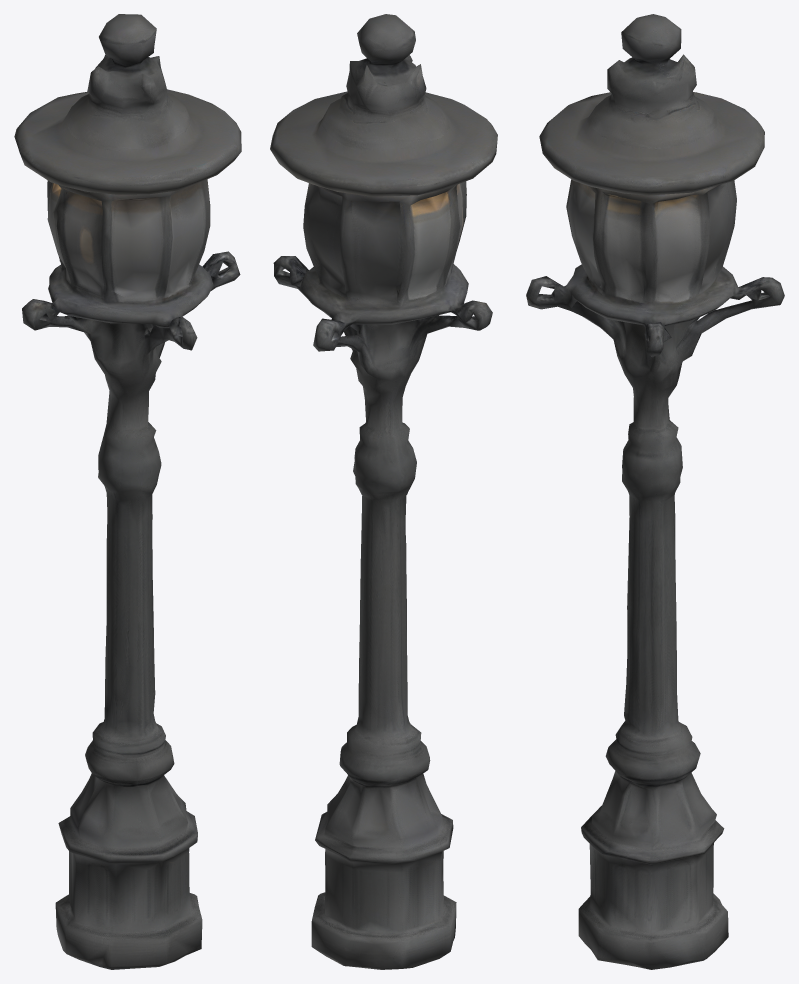
Rendered from lamp_uk.glb.
3 renders of one model, left to right at view 1: azimuth 30°, elevation 25°; view 2: azimuth 150°, elevation 25°; view 3: azimuth 270°, elevation 25°, orthographic.
Bounding box in the file's own units: 0.481 × 2 × 0.5091.
Materials: 1 (1 with a texture image).
